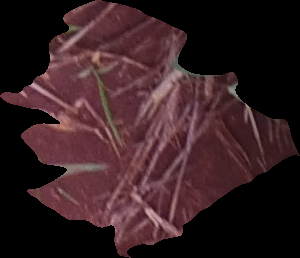soil: (1, 1, 300, 257)
